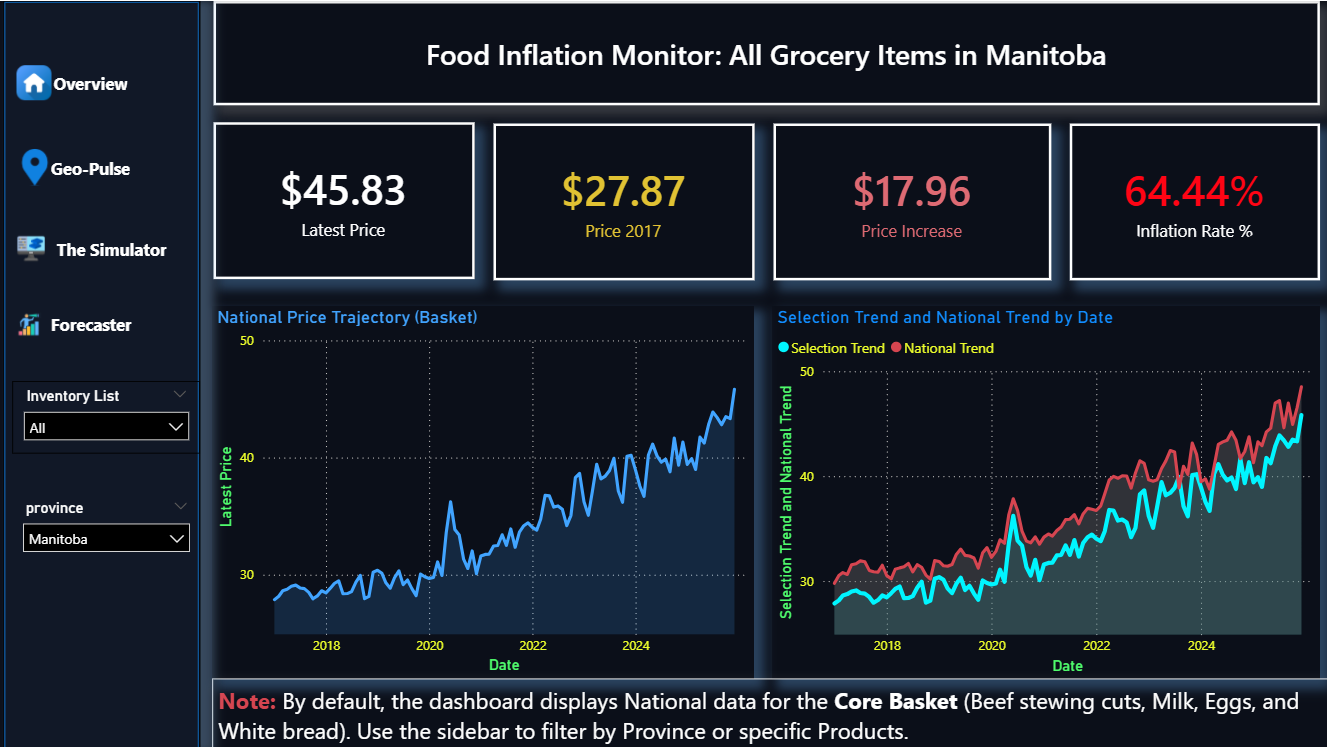

This screenshot's page, from the dashboard's own definition file:
{"tool":"powerbi","page":{"name":"Overview","canvas":[1280,720],"ordinal":0},"visuals":[{"type":"shape","box":[7.8,0,188.5,720],"z":0,"group":"g1"},{"type":"cardVisual","fields":{"Data":["Cleaned_Grocery_Data.Latest Price"]},"box":[208.3,116,250,150],"z":0},{"type":"cardVisual","fields":{"Data":["Cleaned_Grocery_Data.Inflation Rate %"]},"box":[1030,117.8,240,150],"z":1000},{"type":"actionButton","box":[15.9,137.6,150,43.3],"z":1000,"group":"g1"},{"type":"cardVisual","fields":{"Data":["Cleaned_Grocery_Data.Value of $100 Today"]},"box":[476.7,117.7,250,150],"z":2000},{"type":"actionButton","box":[15.9,57.7,150,41.8],"z":3000,"group":"g1"},{"type":"cardVisual","fields":{"Data":["Cleaned_Grocery_Data.Price Increase"]},"box":[745,117.7,266.7,150],"z":3000},{"type":"lineChart","title":"National Price Trajectory (Basket)","fields":{"Y":["Cleaned_Grocery_Data.Latest Price"],"Category":["Cleaned_Grocery_Data.Date.Variation.Date Hierarchy.Year"]},"box":[207.8,292.2,518.9,357.8],"z":4000},{"type":"areaChart","fields":{"Category":["Cleaned_Grocery_Data.Date.Variation.Date Hierarchy.Year"],"Y":["Cleaned_Grocery_Data.Selection Trend","Cleaned_Grocery_Data.National Trend"]},"box":[744.4,292.2,525.6,357.8],"z":5000},{"type":"actionButton","box":[15.9,219,190.4,36.1],"z":6000,"group":"g1"},{"type":"textbox","box":[206.8,645.6,1062.8,69.8],"z":6000},{"type":"cardVisual","fields":{"Data":["Cleaned_Grocery_Data.Dynamic Title"]},"box":[208.9,0,1061.1,100],"z":7000},{"type":"group","id":"g1","title":"Group 1","box":[7.8,0,198.5,720],"z":8000},{"type":"actionButton","box":[15.9,293.2,151.5,33.2],"z":9000,"group":"g1"},{"type":"slicer","fields":{"Values":["Cleaned_Grocery_Data.GEO"]},"box":[15.9,471.8,180.3,69.3],"z":10000,"group":"g1"},{"type":"slicer","fields":{"Values":["Cleaned_Grocery_Data.Product_Name"]},"box":[15.9,364.4,180.3,69.3],"z":11000,"group":"g1"}]}

Visuals, with their boxes on the page's 1280x720 design canvas (x1, y1, x2, y2). These are canvas units, not pixel positions in the 1327x747 screenshot, which may show the page scaled, cropped or inside an application window:
shape: box=[8, 0, 196, 720]
cardVisual - Cleaned_Grocery_Data.Latest Price: box=[208, 116, 458, 266]
cardVisual - Cleaned_Grocery_Data.Inflation Rate %: box=[1030, 118, 1270, 268]
actionButton: box=[16, 138, 166, 181]
cardVisual - Cleaned_Grocery_Data.Value of $100 Today: box=[477, 118, 727, 268]
actionButton: box=[16, 58, 166, 100]
cardVisual - Cleaned_Grocery_Data.Price Increase: box=[745, 118, 1012, 268]
"National Price Trajectory (Basket)" lineChart: box=[208, 292, 727, 650]
areaChart - Cleaned_Grocery_Data.Date.Variation.Date Hierarchy.Year x Cleaned_Grocery_Data.Selection Trend: box=[744, 292, 1270, 650]
actionButton: box=[16, 219, 206, 255]
textbox: box=[207, 646, 1270, 715]
cardVisual - Cleaned_Grocery_Data.Dynamic Title: box=[209, 0, 1270, 100]
"Group 1" group: box=[8, 0, 206, 720]
actionButton: box=[16, 293, 167, 326]
slicer - Cleaned_Grocery_Data.GEO: box=[16, 472, 196, 541]
slicer - Cleaned_Grocery_Data.Product_Name: box=[16, 364, 196, 434]
